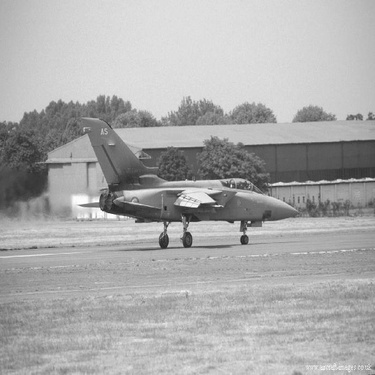airplane: (71, 105, 304, 248)
